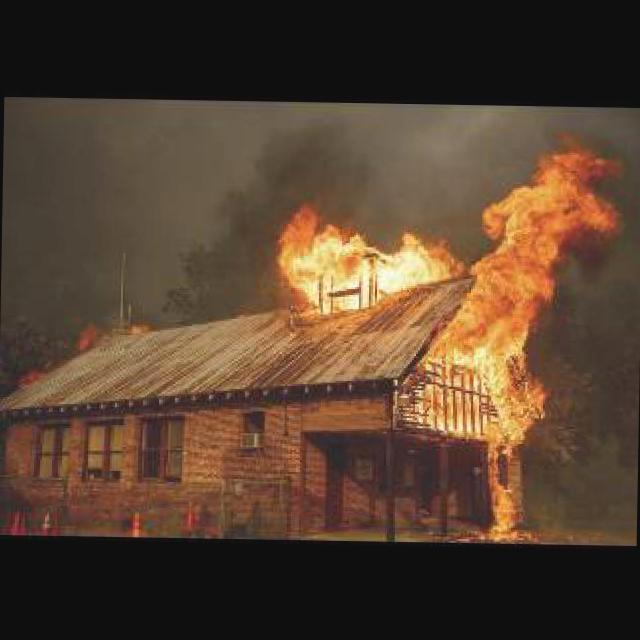Fire: (265, 121, 624, 539), (73, 320, 108, 353), (126, 317, 146, 333)
